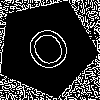O: (22, 23, 80, 83)
